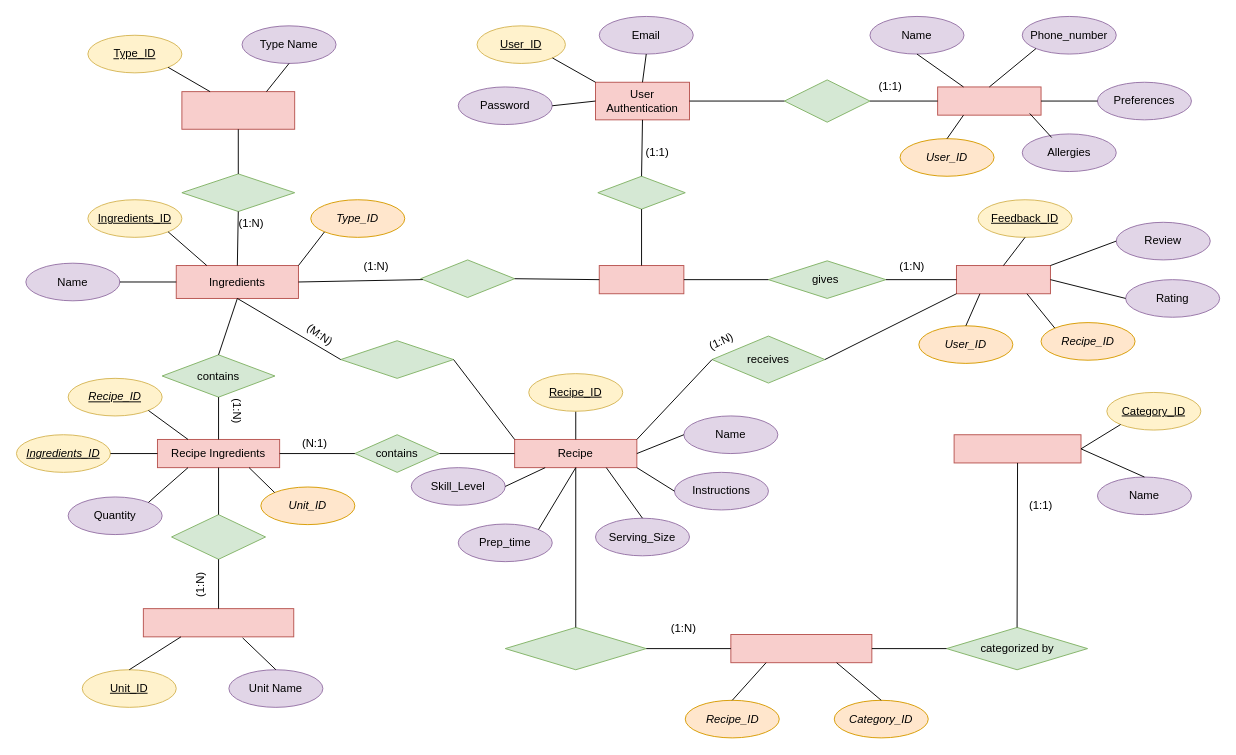
The diagram is 1236 pixels wide and 755 high, and some of its shapes have lost their labels. Here are the shapes that lost their labels. From the top down, the centre of each, then its label:
(x=238, y=110): Ingredients Type
(x=826, y=100): has one
(x=989, y=100): User Profile
(x=238, y=192): has many
(x=641, y=192): login
(x=467, y=278): enter
(x=641, y=279): User
(x=1003, y=279): Feedback
(x=397, y=359): has
(x=1017, y=448): Categoy
(x=218, y=536): used in
(x=218, y=622): Measurement Unit
(x=575, y=648): categorized in
(x=801, y=648): Recipe Category
